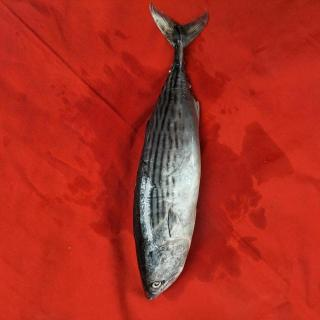Ikan: (123, 4, 214, 310)
